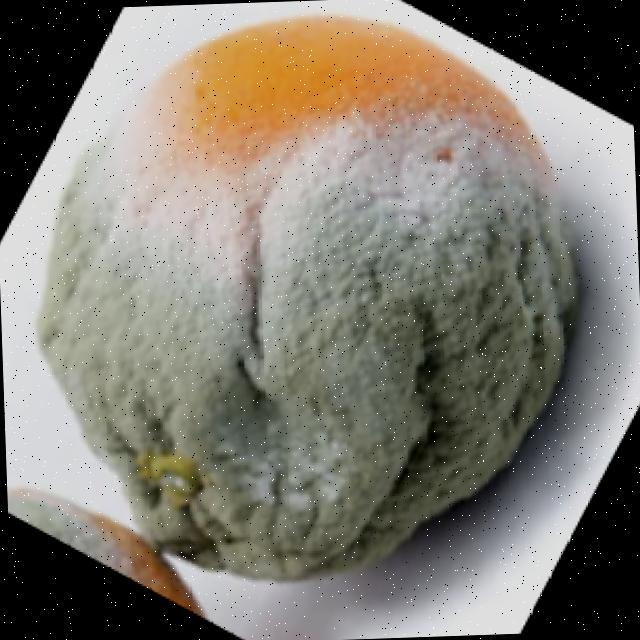Rotten: (21, 4, 586, 594)
